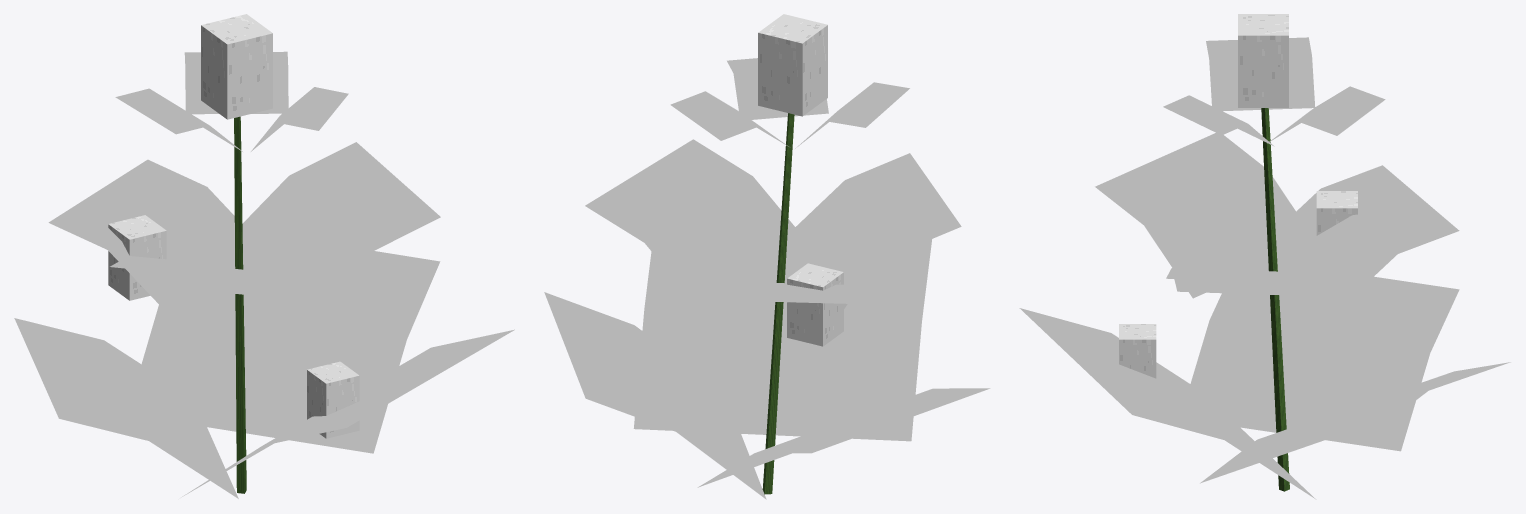
Rendered from plant_3_2_0_lod.obj.
The picture shows the model from 3 angles, left to right: view 1: azimuth 30°, elevation 25°; view 2: azimuth 150°, elevation 25°; view 3: azimuth 270°, elevation 25°; orthographic projection. The views are drawn at different scales.
Visible parts, largest first — view 1: model; view 2: model; view 3: model.
Part boxes in pixels (x1=…): model: x1=14, y1=14, x2=514, y2=498; model: x1=544, y1=14, x2=990, y2=499; model: x1=1019, y1=14, x2=1510, y2=499.
Bounding box in the file's own units: 0.8454 × 0.9102 × 0.8882.
